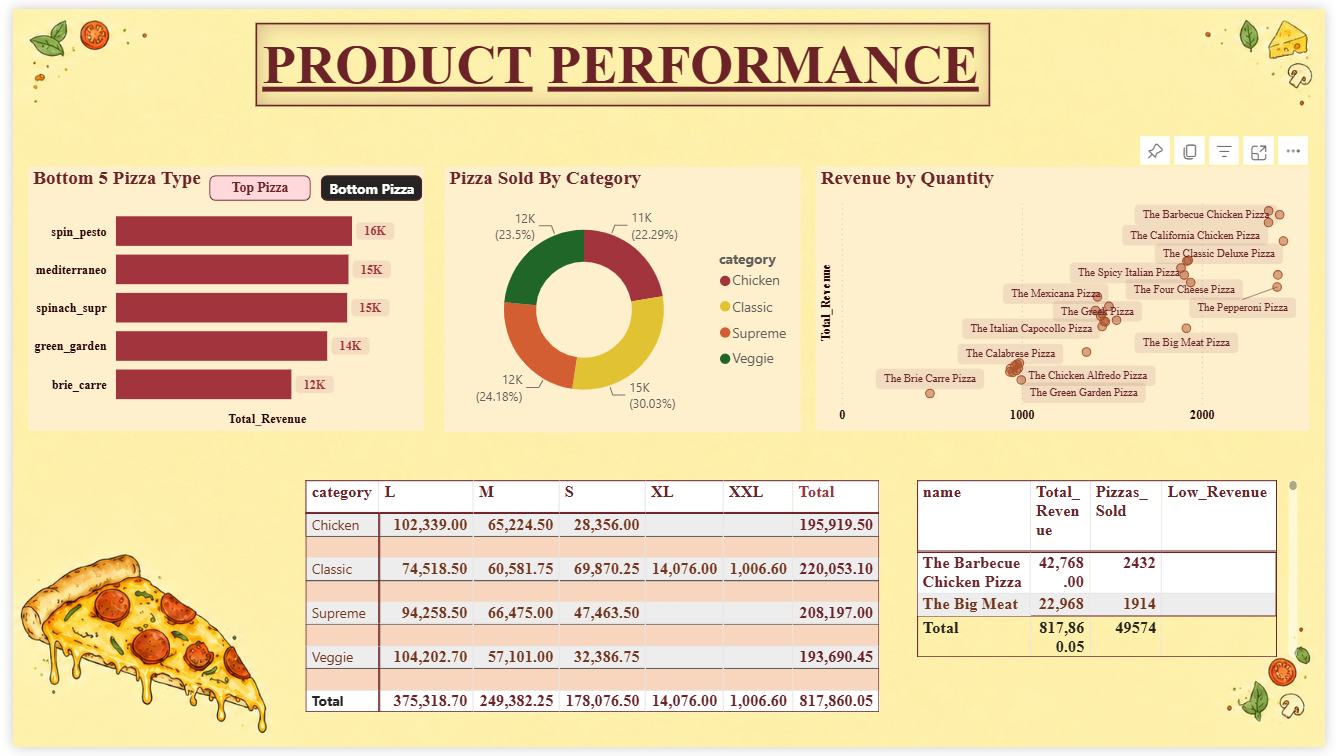

Layout of this report page (visuals, bound fields, positions):
{"tool":"powerbi","page":{"name":"Product Performance ","canvas":[1280,720],"ordinal":2},"visuals":[{"type":"textbox","box":[236.5,13.6,717,81.3],"z":0},{"type":"barChart","title":"Bottom 5 Pizza Type","fields":{"Y":["Measure_Table_1.Total_Revenue"],"Category":["df_order_pizza.pizza_type_id"]},"box":[14.5,154.1,386.4,257.9],"z":1000},{"type":"bookmarkNavigator","box":[190.9,161.9,209.9,25.7],"z":3000},{"type":"scatterChart","title":"Revenue by Quantity","fields":{"Y":["Measure_Table_1.Total_Revenue"],"X":["Measure_Table_1.Pizzas_Sold"],"Category":["df_order_pizza.name"]},"box":[783.2,153.6,482,257.6],"z":4000},{"type":"tableEx","fields":{"Values":["df_order_pizza.name","Measure_Table_1.Total_Revenue","Measure_Table_1.Pizzas_Sold","Measure_Table_1.Low_Revenue"]},"box":[875.7,454.3,382.9,182.9],"z":5000},{"type":"donutChart","title":"Pizza Sold By Category","fields":{"Category":["df_order_pizza.category"],"Y":["Measure_Table_1.Pizzas_Sold"]},"box":[420.2,153.6,347.9,259.1],"z":6000},{"type":"pivotTable","fields":{"Rows":["df_order_pizza.category"],"Columns":["df_order_pizza.size"],"Values":["Measure_Table_1.Total_Revenue"]},"box":[280,454.3,581.4,251.4],"z":7000}]}

Visuals, with their boxes in screenshot pixels (x1, y1, x2, y2), scaled from the page's 1280x720 canvas onto the 1336x756 screenshot:
textbox: locate(247, 14, 995, 100)
"Bottom 5 Pizza Type" barChart: locate(15, 162, 418, 433)
bookmarkNavigator: locate(199, 170, 418, 197)
"Revenue by Quantity" scatterChart: locate(817, 161, 1321, 432)
tableEx - df_order_pizza.name x Measure_Table_1.Total_Revenue: locate(914, 477, 1314, 669)
"Pizza Sold By Category" donutChart: locate(439, 161, 802, 433)
pivotTable - df_order_pizza.category x df_order_pizza.size: locate(292, 477, 899, 741)
